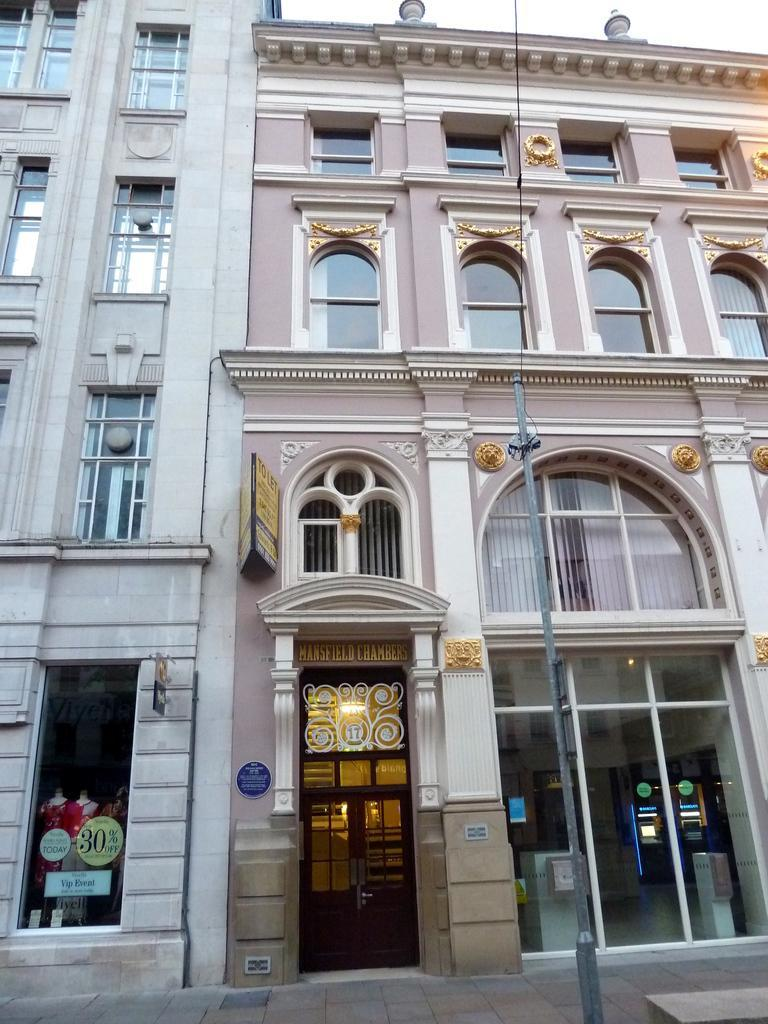door: (303, 798, 358, 956), (361, 806, 410, 958)
